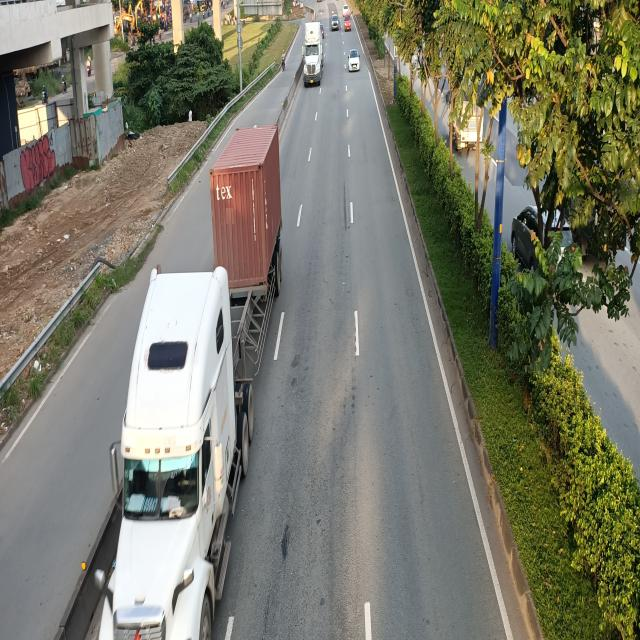car: (348, 48, 360, 72)
container: (94, 125, 285, 640), (302, 22, 324, 87)
